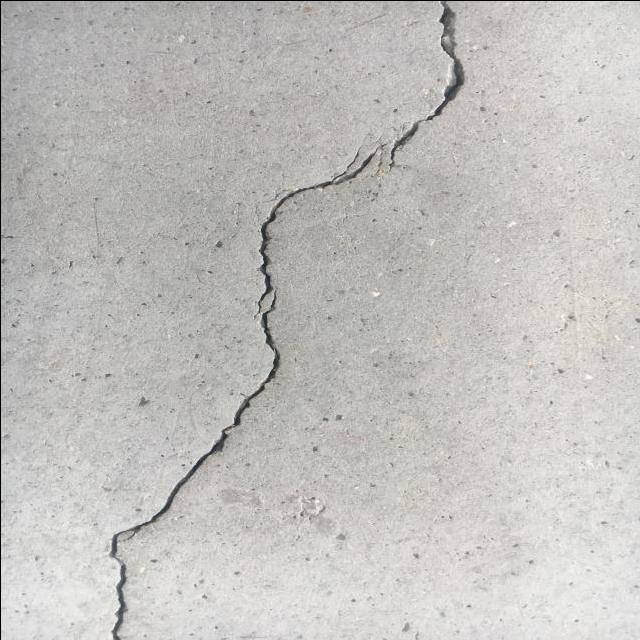SurfaceCrack: (56, 0, 500, 639)
